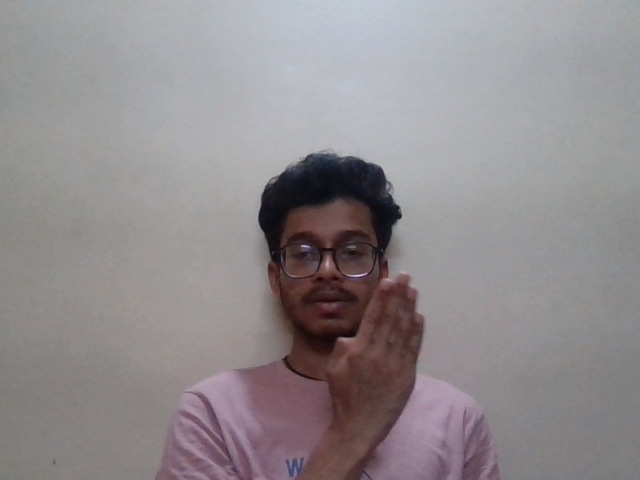good-bye: (324, 264, 433, 458)
